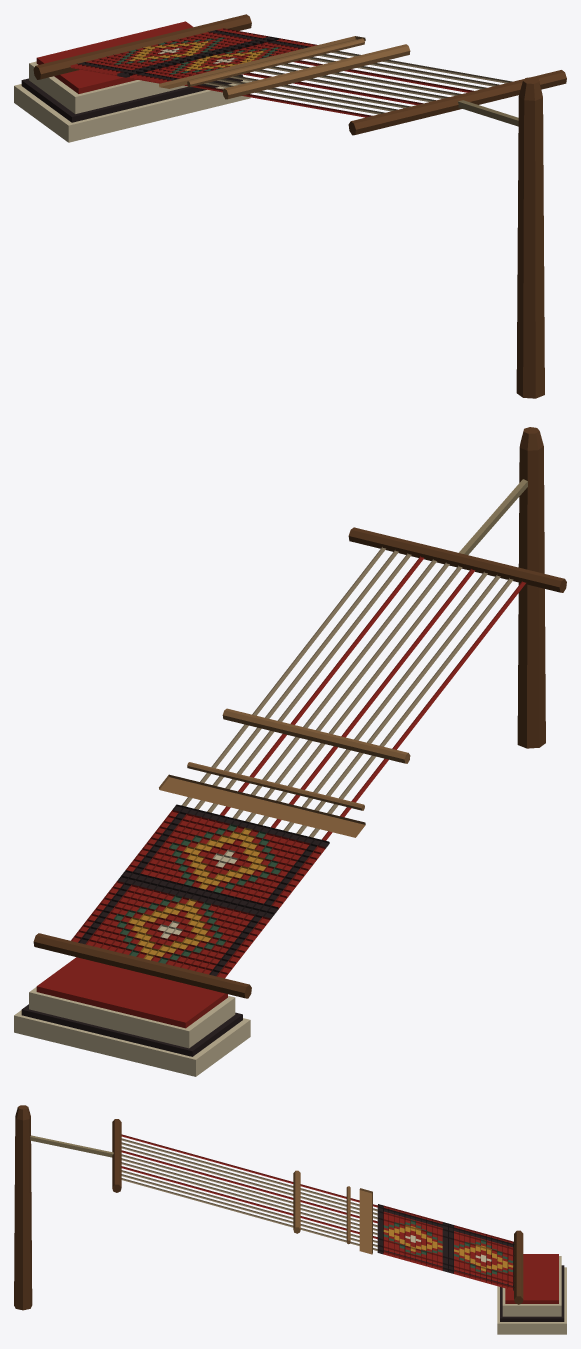
Rendered from pch_loom.glb.
The picture shows the model from 3 angles, top to bottom: view 1: azimuth 30°, elevation 25°; view 2: azimuth 150°, elevation 25°; view 3: azimuth 270°, elevation 25°; orthographic projection. The views are drawn at different scales.
Parts seen in each view (by area): view 1: pch_loom; view 2: pch_loom; view 3: pch_loom.
Part boxes in pixels (box(x1,y1,x2,y2)): pch_loom: box(14, 14, 566, 398); pch_loom: box(14, 427, 566, 1076); pch_loom: box(14, 1105, 566, 1334).
Bounding box in the file's own units: 0.58 × 0.82 × 2.06.
